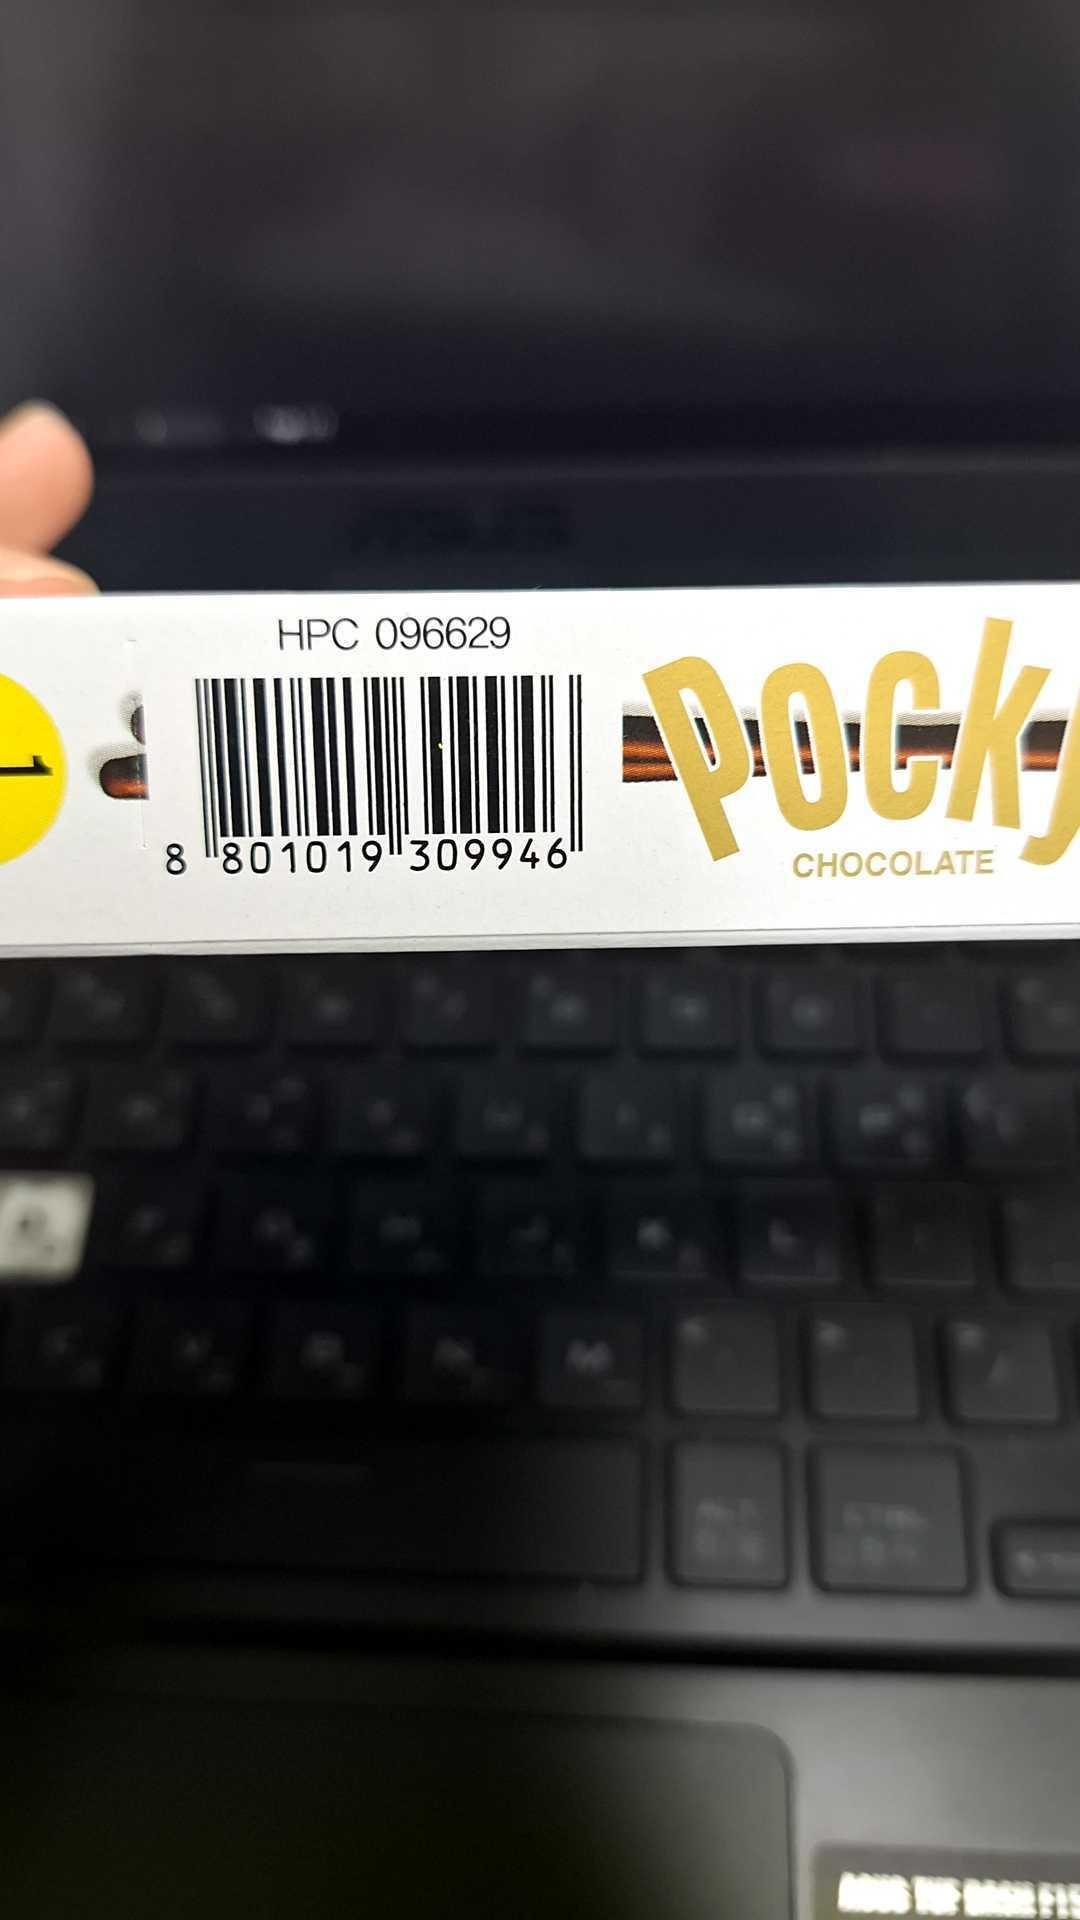whitepocky-1800-2025-8-10: (150, 670, 605, 877)
